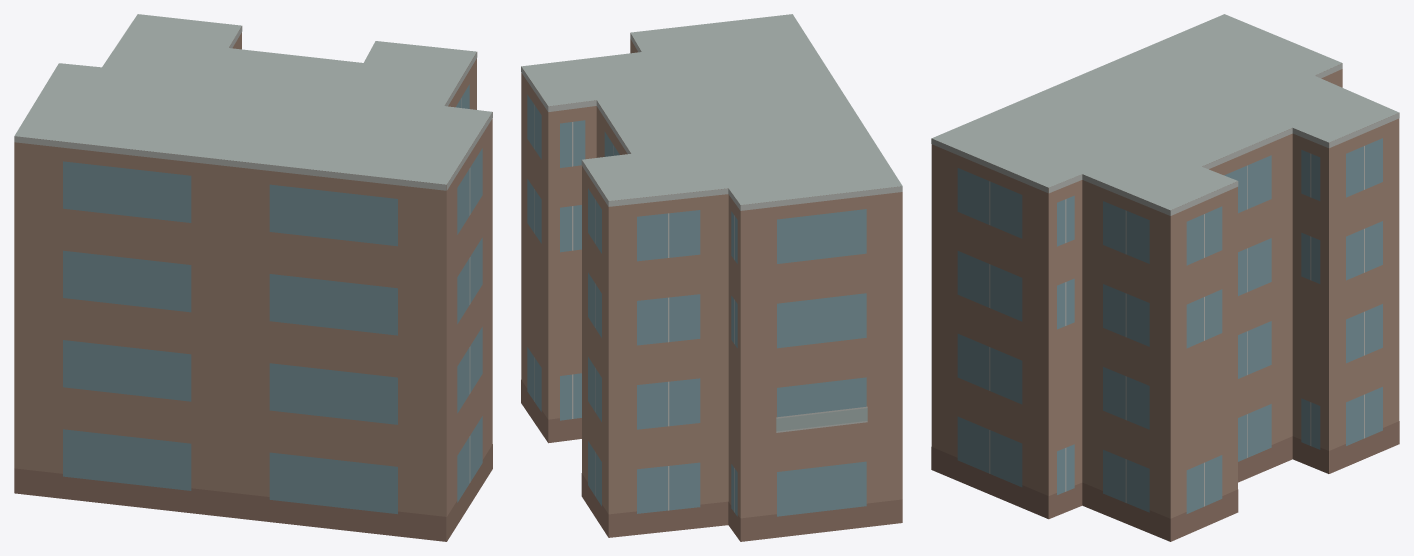
The model's file is survey-upis-32694843.glb.
3 views of the same model, side by side, from view 1: azimuth 30°, elevation 25°; view 2: azimuth 150°, elevation 25°; view 3: azimuth 270°, elevation 25° (orthographic). The views are drawn at different scales.
Visible parts, largest first — view 1: survey-upis-32694843.tmp; view 2: survey-upis-32694843.tmp; view 3: survey-upis-32694843.tmp.
Boxes of the visible parts, bbox=[...] form: survey-upis-32694843.tmp: bbox=[14, 14, 492, 541]; survey-upis-32694843.tmp: bbox=[521, 14, 902, 541]; survey-upis-32694843.tmp: bbox=[931, 14, 1399, 541].
Size of the model in its own units: 18.05 by 14.2 by 18.18.
